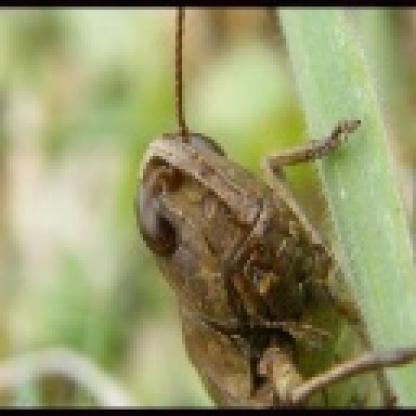grasshopper: (121, 8, 416, 402)
